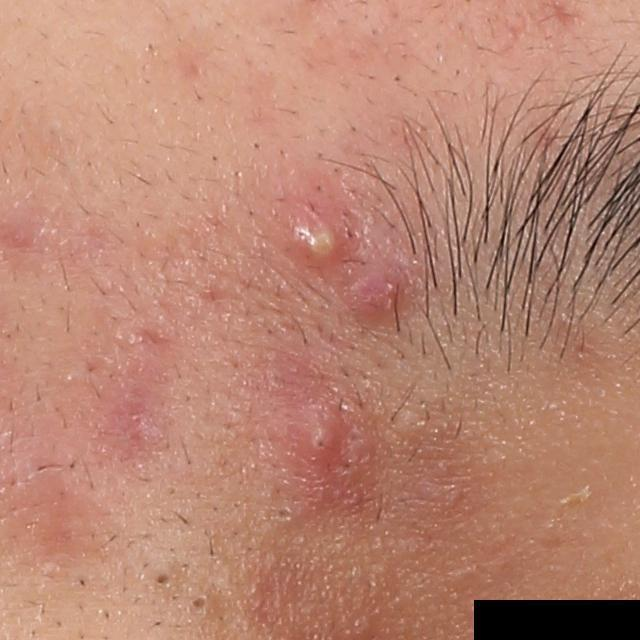comedo: (148, 565, 177, 593), (188, 591, 212, 612)
papule: (341, 261, 415, 330)
pustule: (283, 190, 355, 275), (286, 399, 348, 471)
